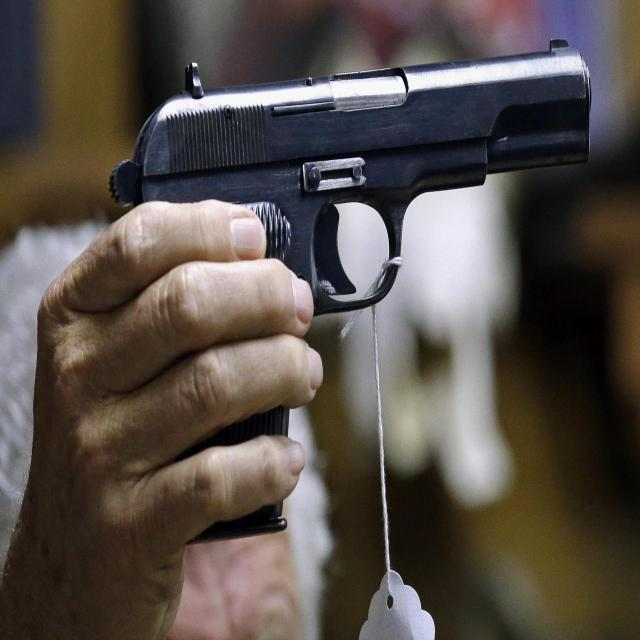weapon: (104, 36, 600, 539)
